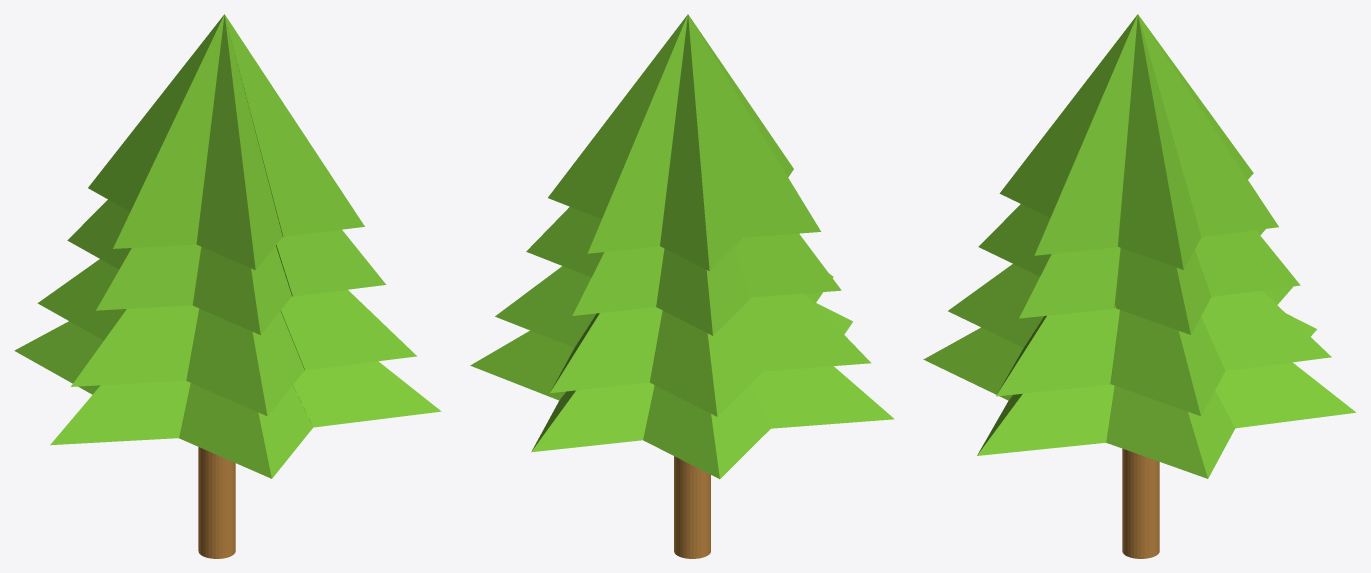
Rendered from tree.fbx.
The picture shows the model from 3 angles, left to right: view 1: azimuth 30°, elevation 25°; view 2: azimuth 150°, elevation 25°; view 3: azimuth 270°, elevation 25°; orthographic projection.
Parts seen in each view (by area): view 1: Cube.006; view 2: Cube.006; view 3: Cube.006.
Part boxes in pixels (left/top/right/bottom): Cube.006: left=14, top=14, right=441, bottom=558; Cube.006: left=470, top=14, right=894, bottom=558; Cube.006: left=923, top=14, right=1355, bottom=558.
Size of the model in its own units: 879 by 1202 by 874.
